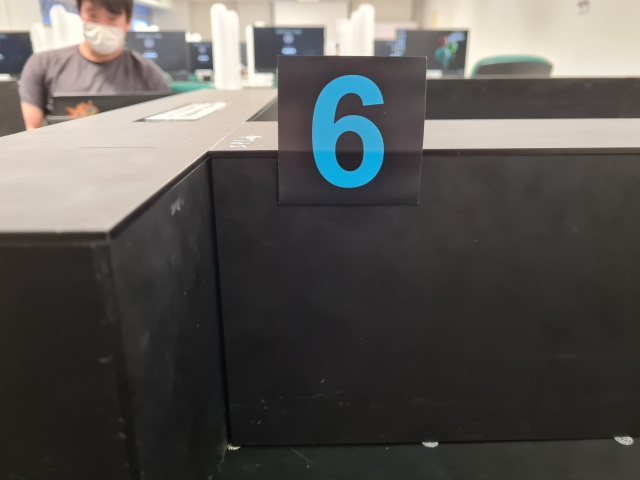six: (275, 54, 428, 205)
